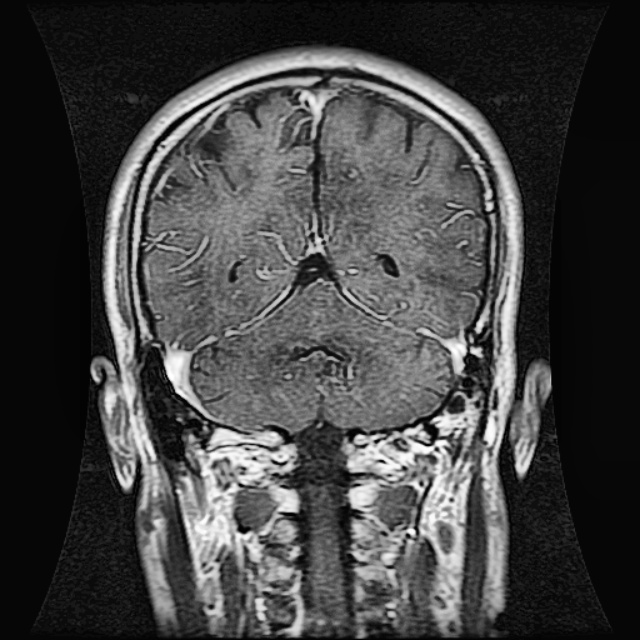Meningioma: (292, 343, 357, 397)
